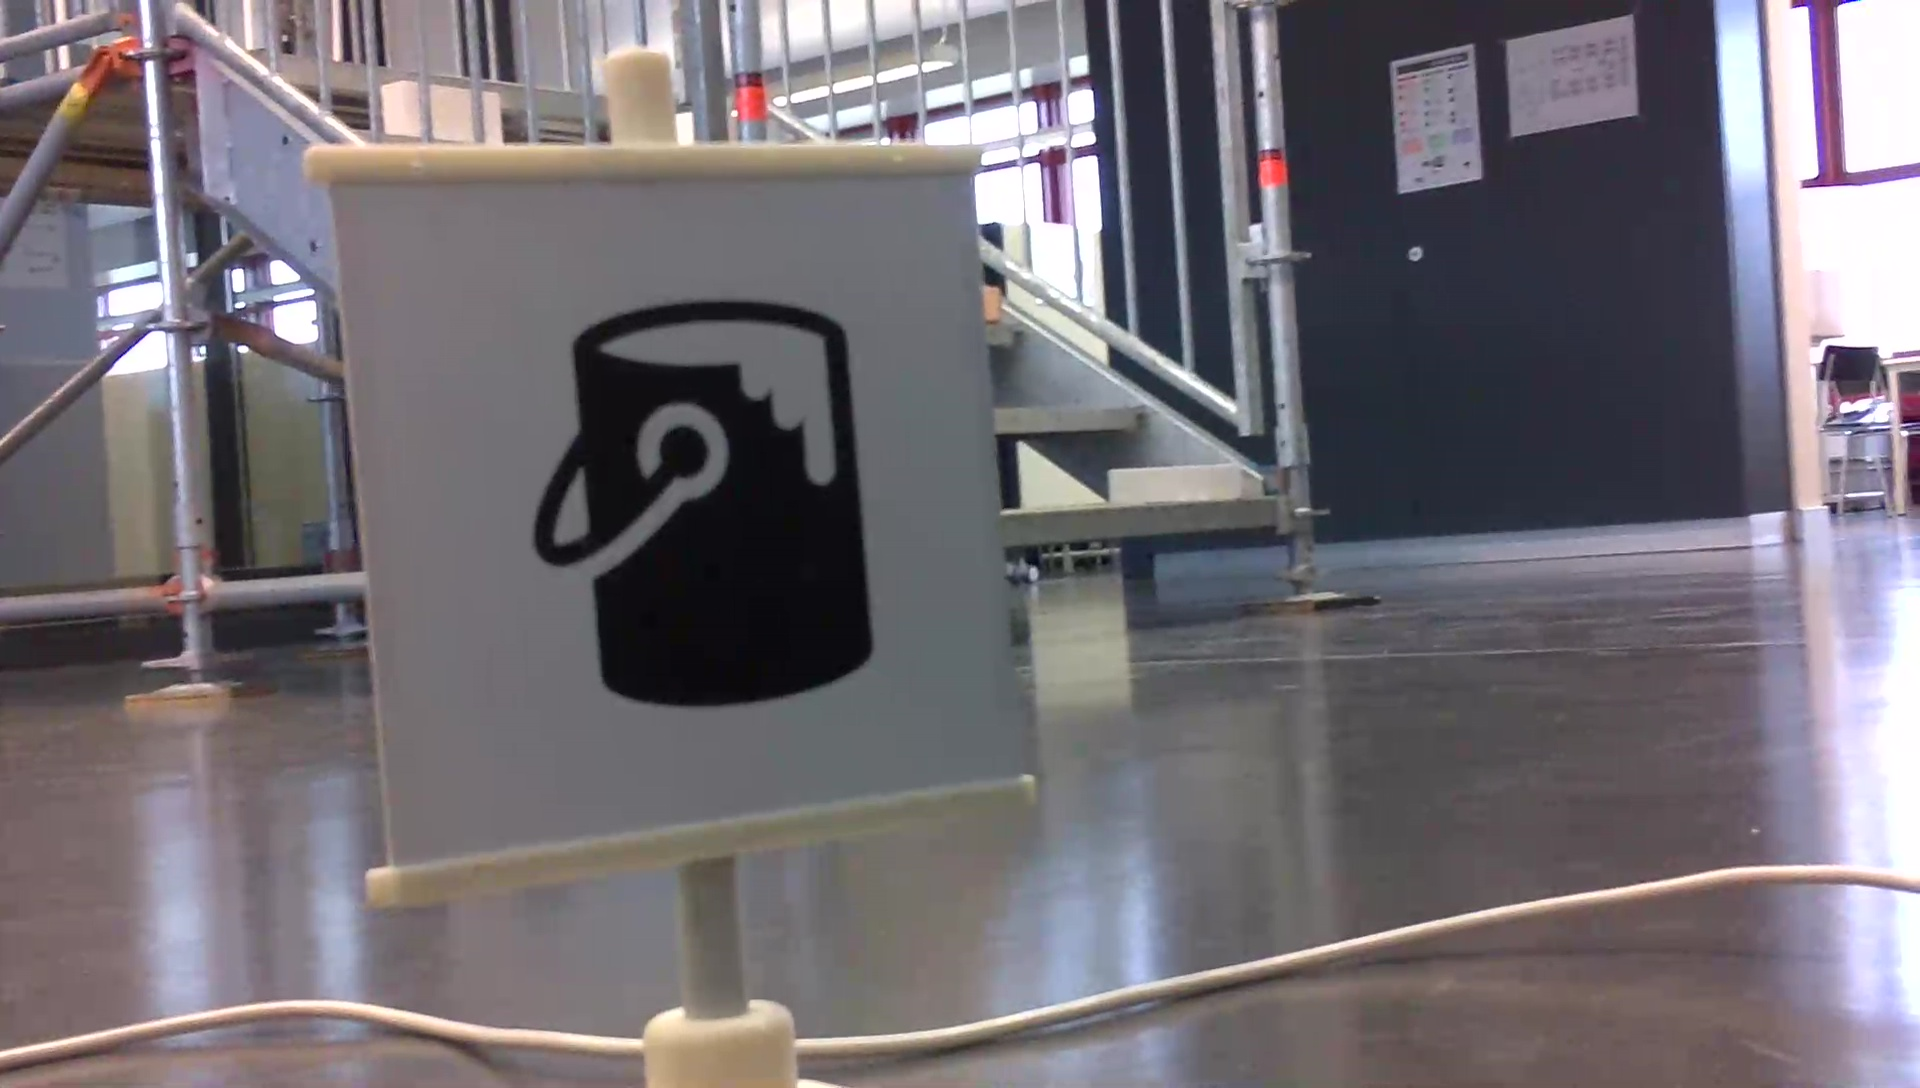brick: (1112, 466, 1236, 499)
bucket: (527, 293, 890, 728)
edge: (1007, 500, 1276, 546), (993, 405, 1153, 433)
